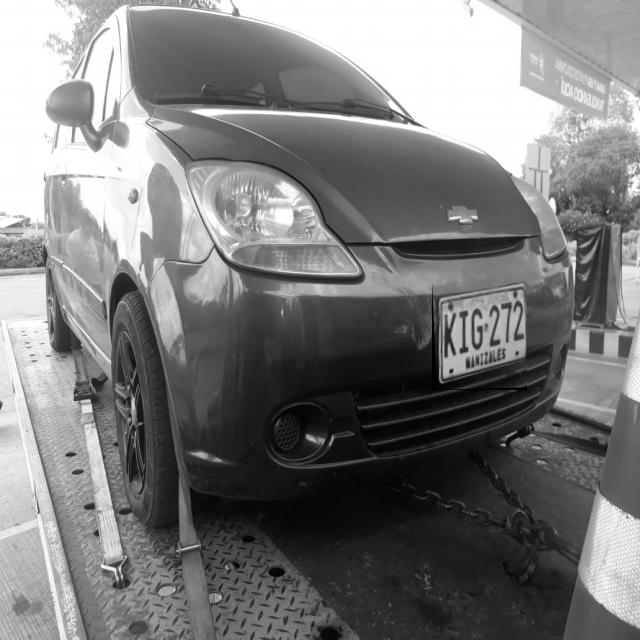plate: (436, 281, 527, 390)
